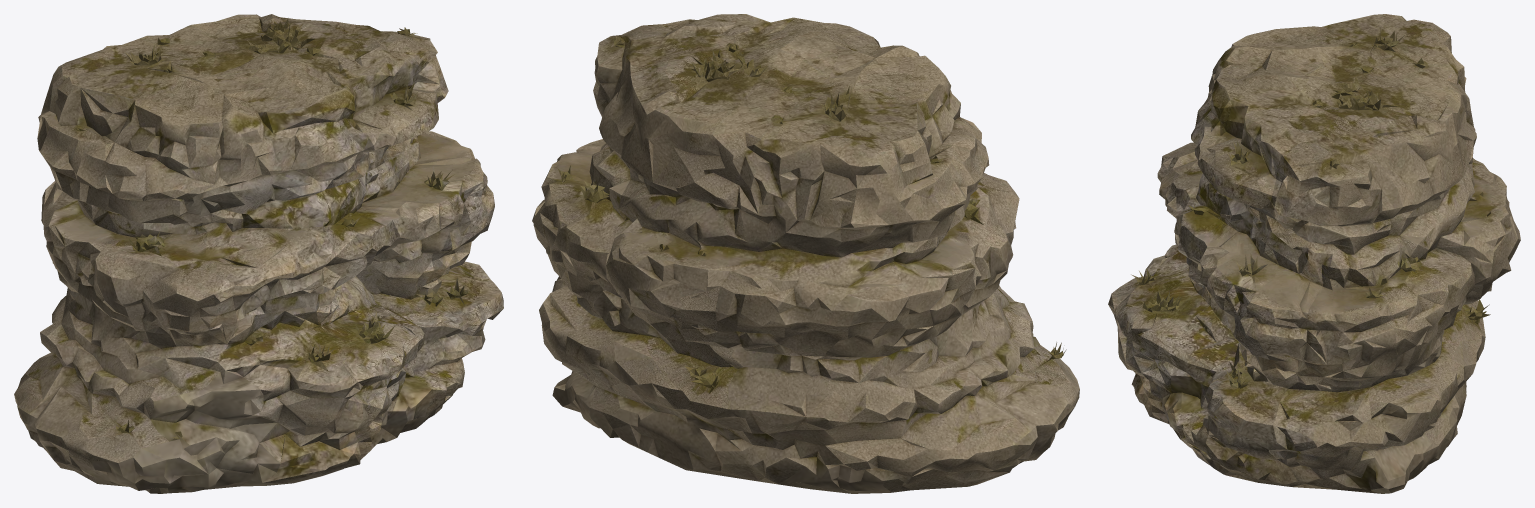
Rendered from risco_estratos_alto.glb.
The picture shows the model from 3 angles, left to right: view 1: azimuth 30°, elevation 25°; view 2: azimuth 150°, elevation 25°; view 3: azimuth 270°, elevation 25°; orthographic projection. The views are drawn at different scales.
Parts seen in each view (by area): view 1: alto; view 2: alto; view 3: alto.
Part boxes in pixels (x1,y1,x2,y2): alto: [14, 14, 503, 493]; alto: [532, 14, 1079, 493]; alto: [1108, 14, 1520, 493].
Size of the model in its own units: 5.36 by 4 by 4.28.
Materials: 1 (1 with a texture image).
